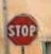stop: (5, 12, 37, 46)
